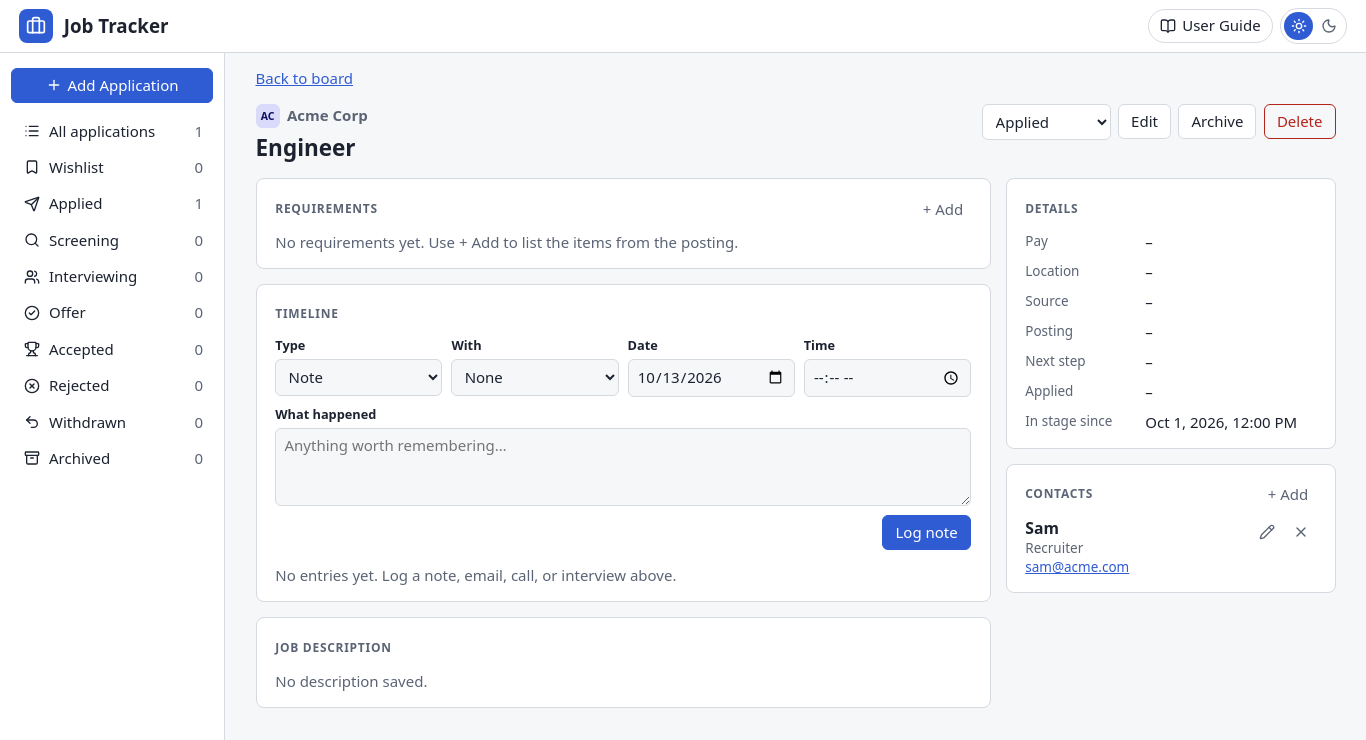
Test: editing and deleting contacts › changes a contact's details, and Cancel discards (AC-6)
Expected: the element "Contacts" is shown, x1=1006 y1=464 x2=1336 y2=593
Expected: the text "Sam" is shown, x1=1025 y1=517 x2=1059 y2=539
Click the button named "Edit " at (1267, 532), box x1=1252 y1=517 x2=1282 y2=547
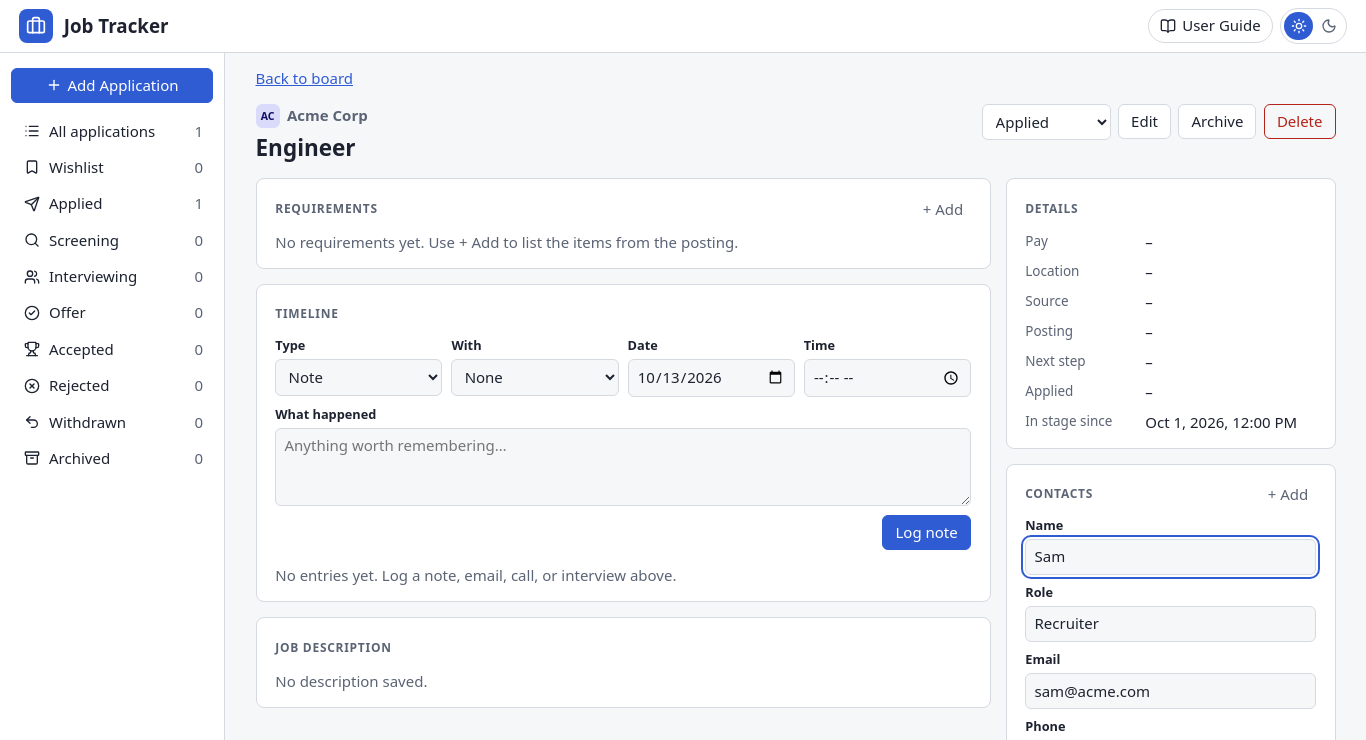
Type " cancelled" into the field labelled "Name" at (1171, 557), box x1=1025 y1=539 x2=1316 y2=575
(page scrolled)
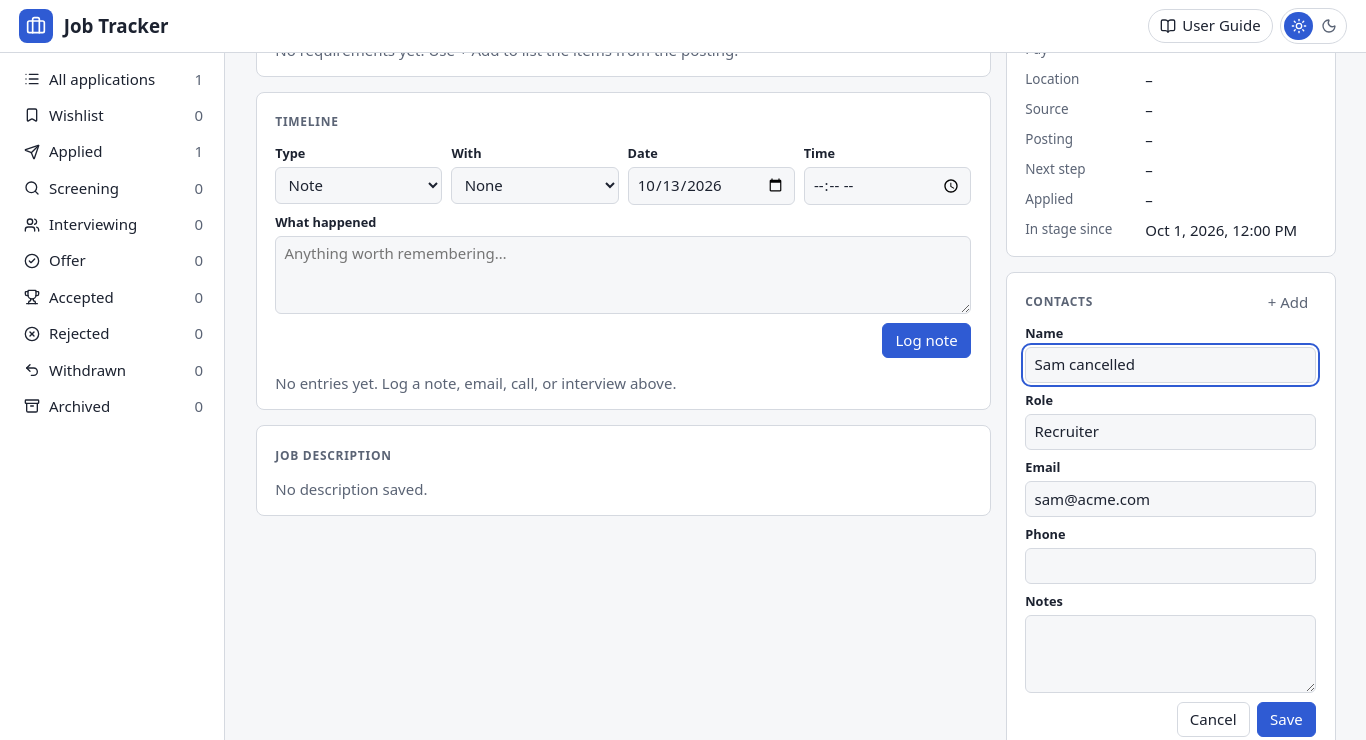
Click the button "Cancel" at (1213, 720), box x1=1177 y1=702 x2=1250 y2=738
(page scrolled)
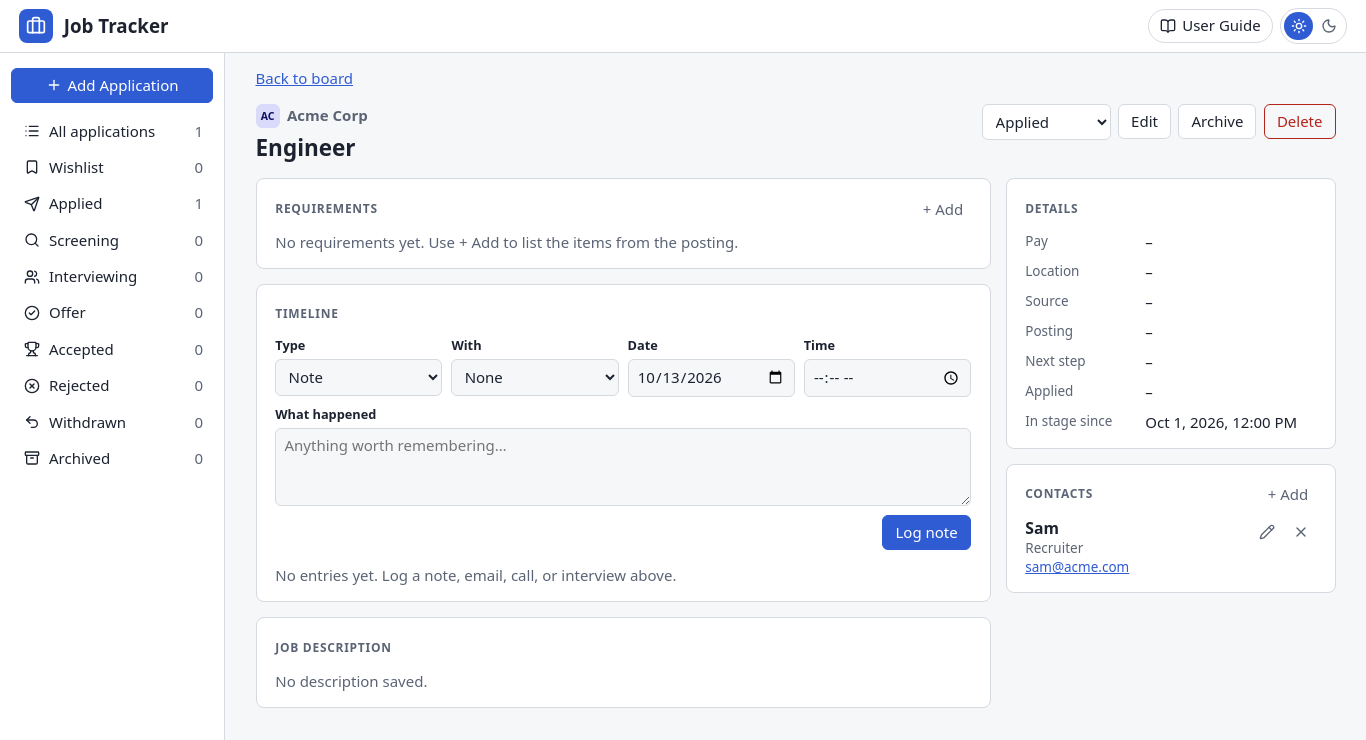
Click the button named "Edit " at (1267, 532), box x1=1252 y1=517 x2=1282 y2=547
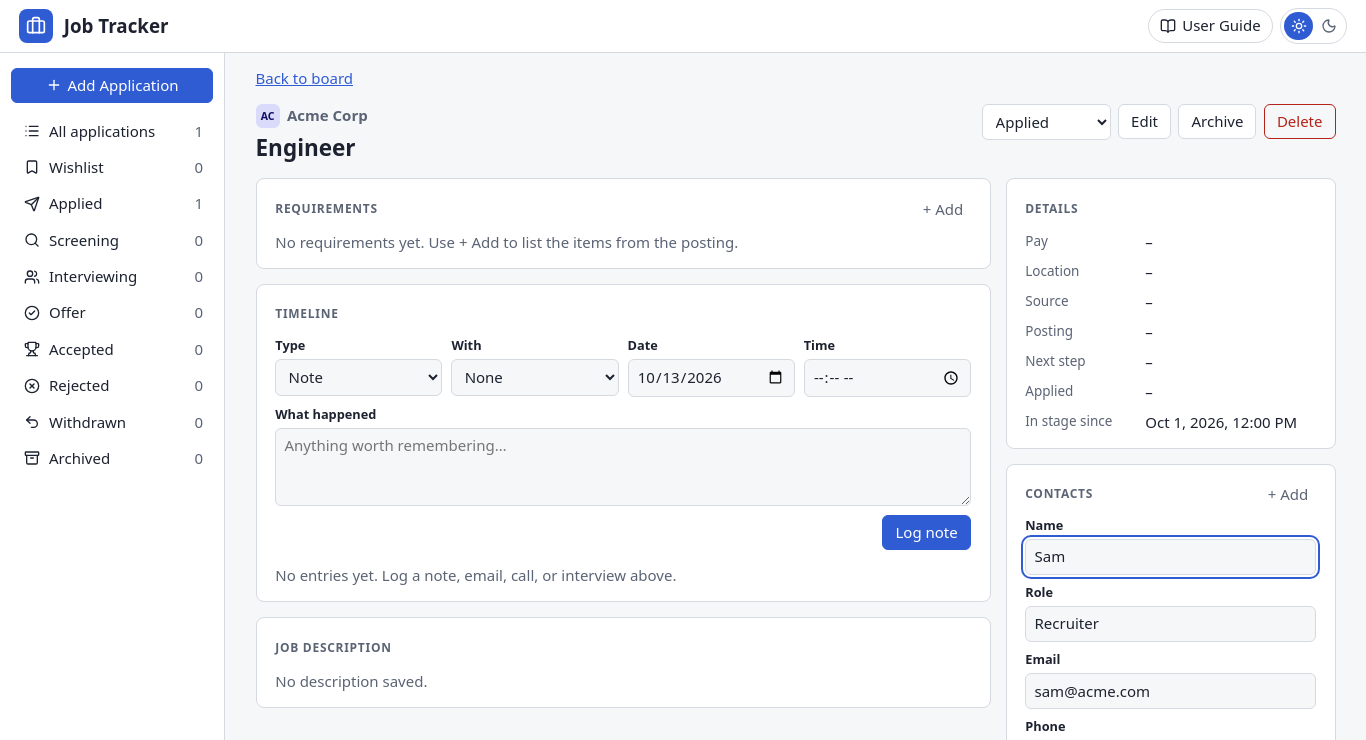
Expected: the field labelled "Email" holds "sam@acme.com", x1=1025 y1=673 x2=1316 y2=709
Replace the text in the field labelled "Name" with "Samantha Lee" at (1171, 557), box x1=1025 y1=539 x2=1316 y2=575
Clear the field labelled "Role" at (1171, 624), box x1=1025 y1=606 x2=1316 y2=642
(page scrolled)
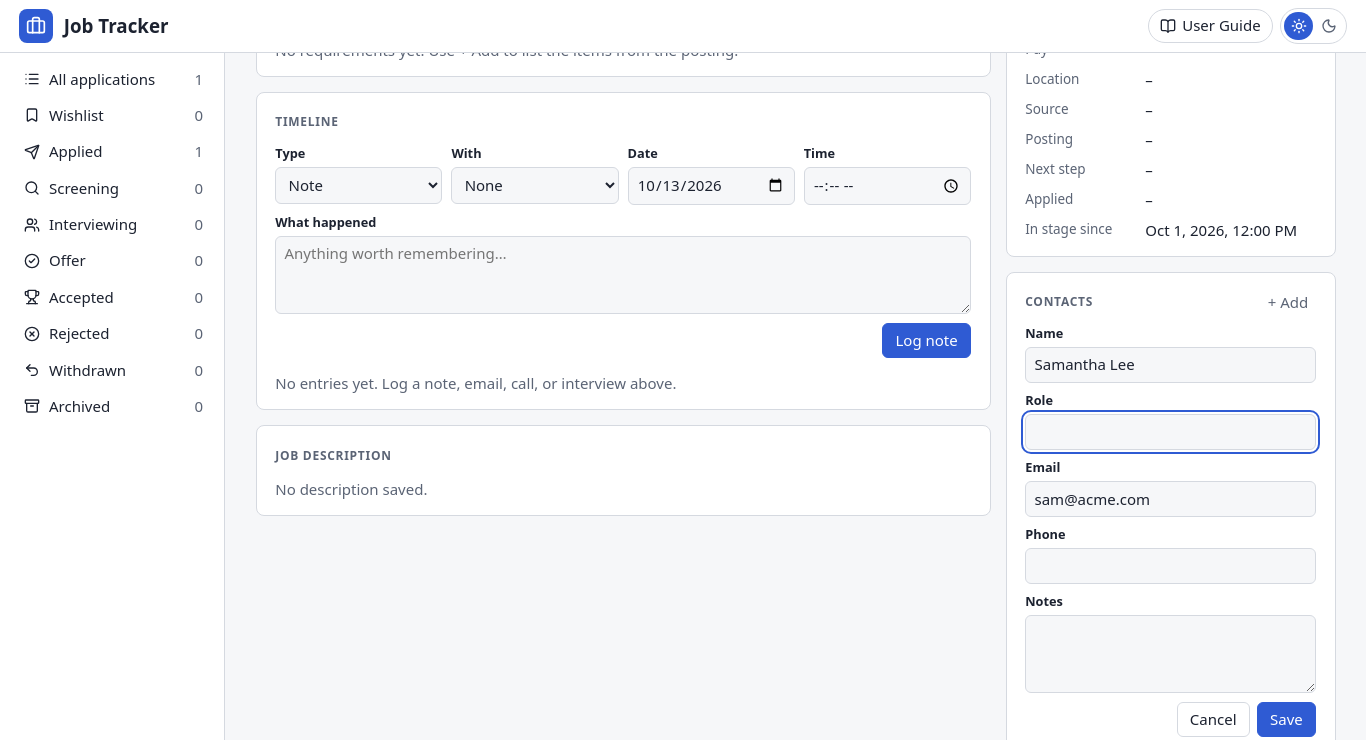
Click the button "Save" at (1286, 720), box x1=1257 y1=702 x2=1316 y2=738
(page scrolled)
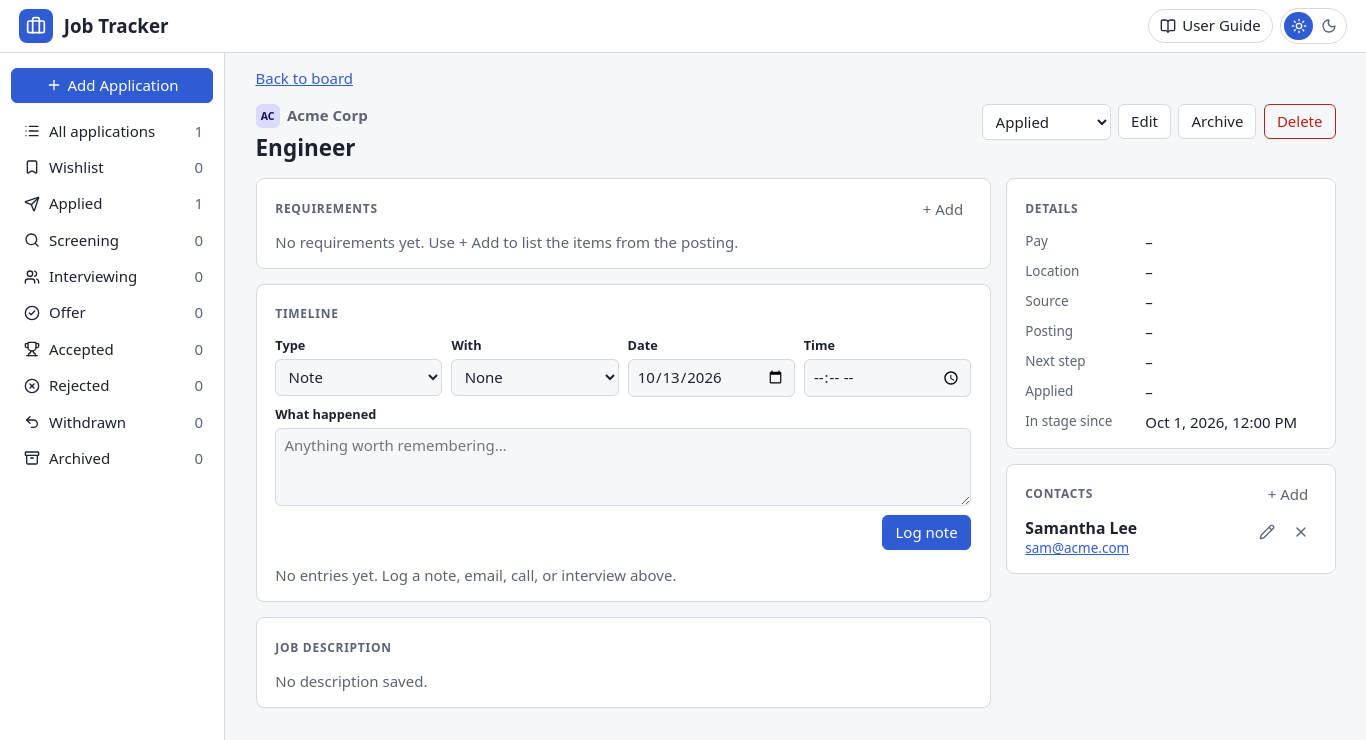
Expected: the text "Recruiter" is not shown
Expected: the list item "Samantha Lee sam@acme.com" is shown, x1=1025 y1=517 x2=1316 y2=558
